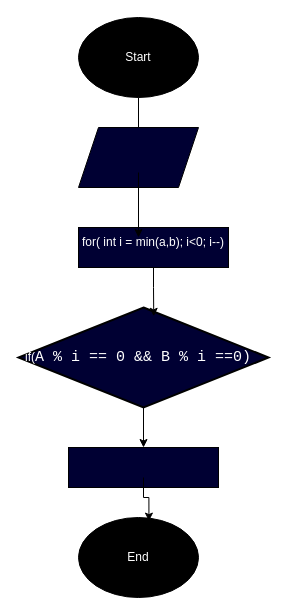
The diagram is 286 pixels wide and 615 high, and some of its shapes have lost their labels. The centre of each missing label's shape, as x and y in pixels:
"In i" belongs at pixel 143 467.
"Nhập a, b" belongs at pixel 138 157.
